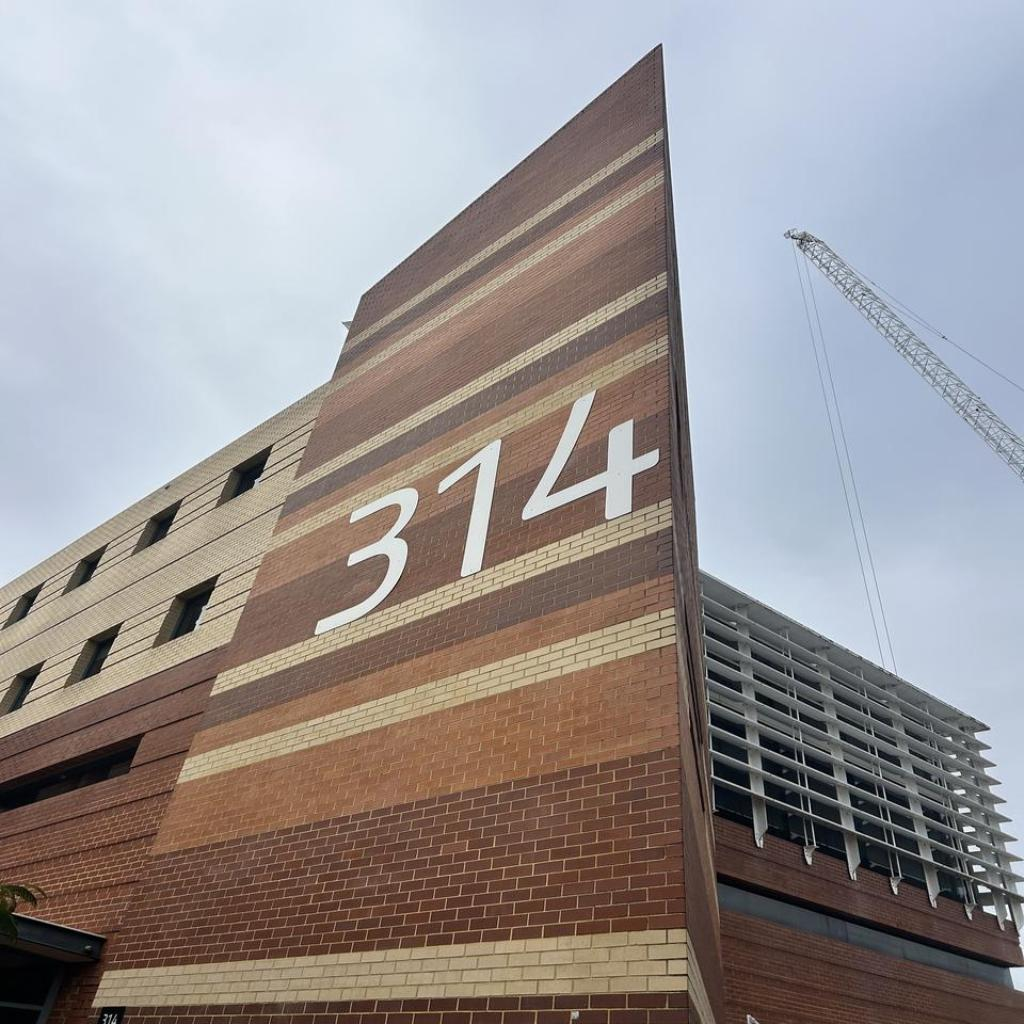BuildingCodes: (310, 388, 662, 640)
